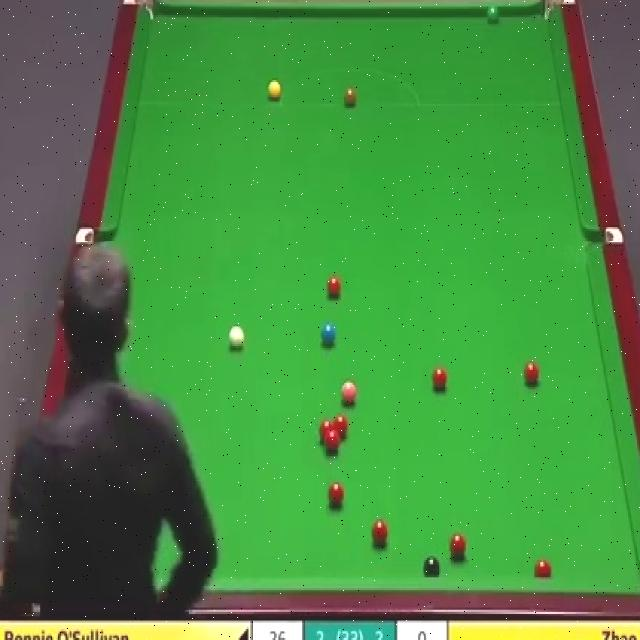black-ball: (424, 554, 441, 578)
blue-ball: (320, 320, 334, 343)
brown-ball: (344, 84, 356, 106)
green-ball: (486, 1, 501, 22)
pink-ball: (340, 378, 361, 405)
red-ball: (448, 534, 468, 562), (328, 477, 346, 508), (372, 518, 389, 548), (431, 363, 448, 392), (318, 419, 334, 446), (523, 361, 539, 388), (327, 273, 342, 299), (532, 557, 552, 576), (334, 415, 348, 440), (325, 434, 341, 454)
white-ball: (227, 324, 245, 353)
yellow-ball: (267, 82, 280, 100)
